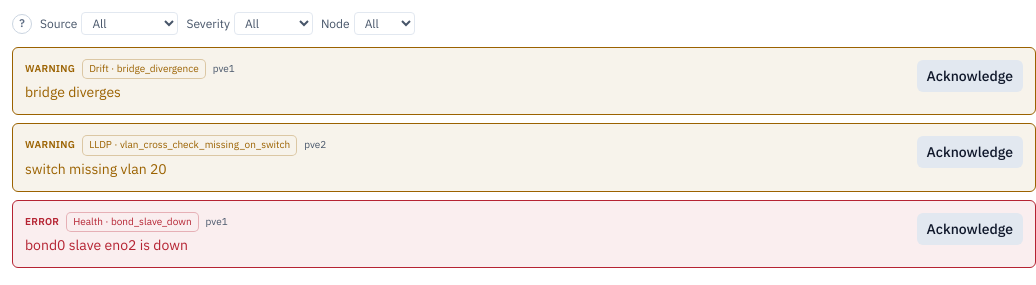
Test: FindingsStreamPanel › filters by source
The width and height of the screenshot is (1036, 285).
Expected: the text "bridge diverges" is shown, [25, 83, 121, 101]
Select "LLDP" in the dropdown named "Filter by source": (130, 24) [81, 12, 178, 35]
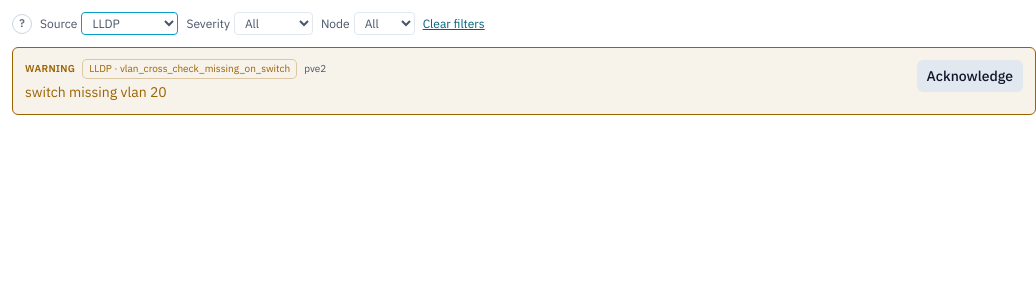
Expected: the text "switch missing vlan 20" is shown, [25, 83, 167, 101]
Expected: the text "bridge diverges" is gone
Expected: the text "bond0 slave eno2 is down" is gone
